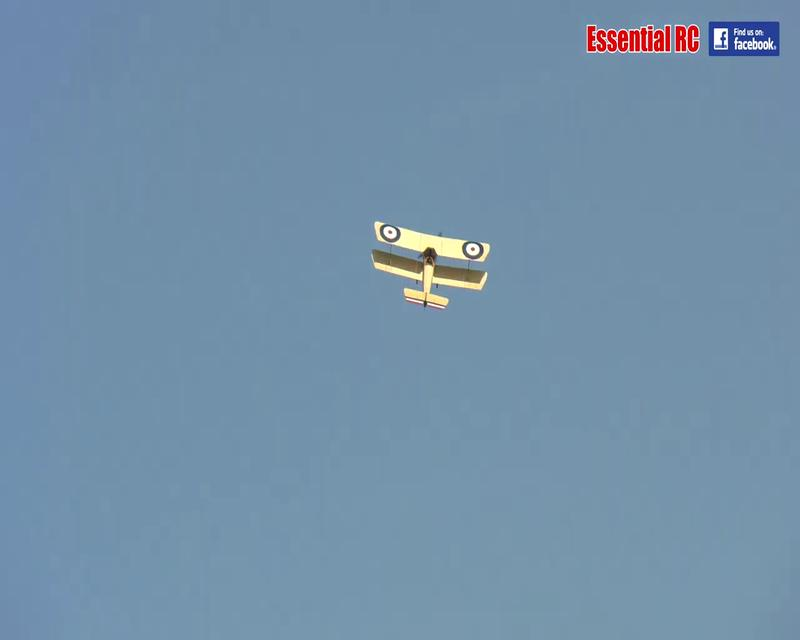UAV: (369, 221, 488, 311)
